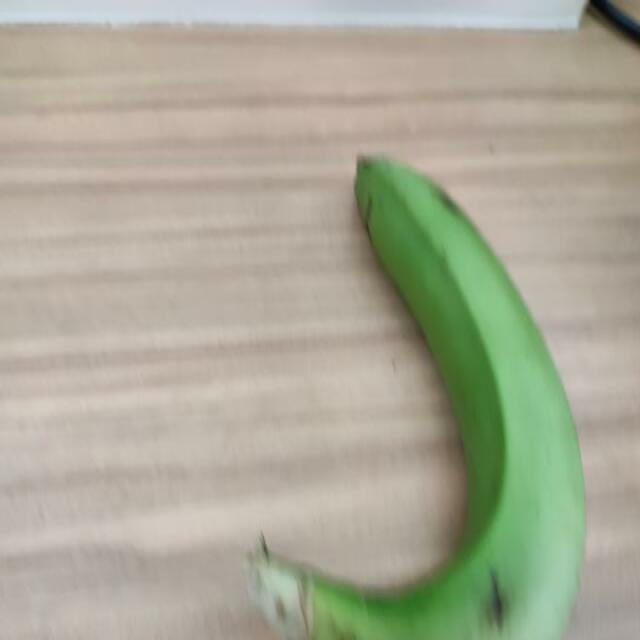Raw: (204, 119, 606, 640)
